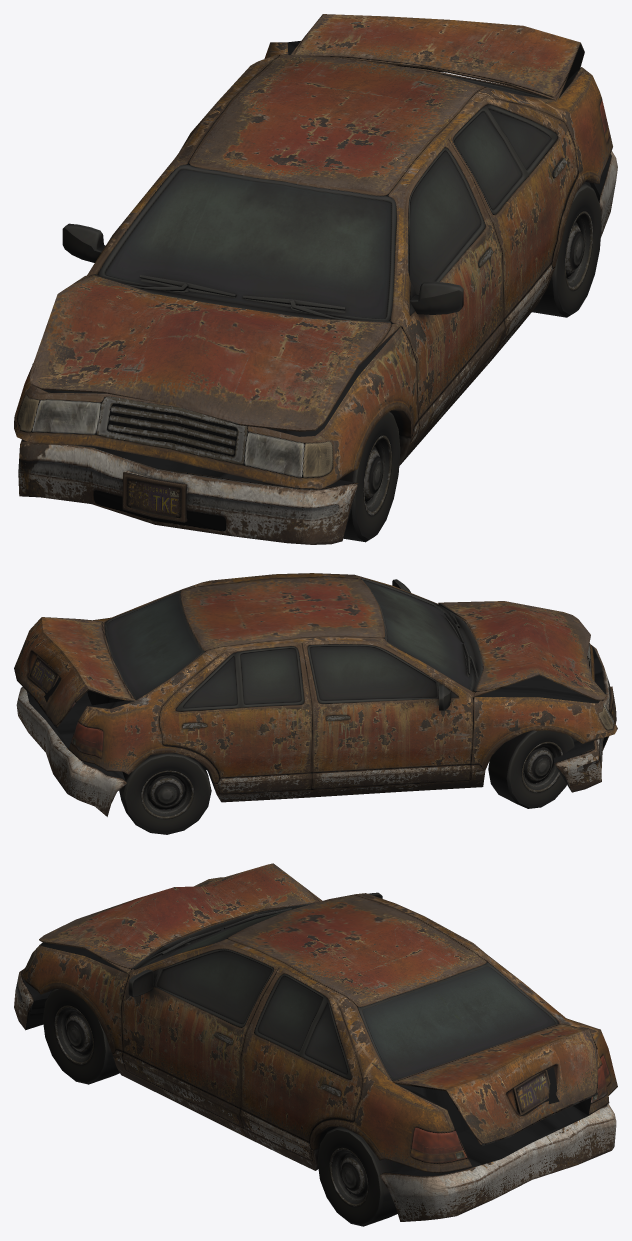
File: Rust in road 3.fbx
3 renders of one model, top to bottom at view 1: azimuth 30°, elevation 25°; view 2: azimuth 150°, elevation 25°; view 3: azimuth 270°, elevation 25°, orthographic. The views are drawn at different scales.
Parts seen in each view (by area): view 1: 3; view 2: 3; view 3: 3.
Boxes of the visible parts, box(x1,y1,x2,y2) form: 3: box(14, 14, 617, 544); 3: box(14, 573, 617, 834); 3: box(14, 863, 617, 1226).
Bounding box in the file's own units: 652 × 213 × 599.
